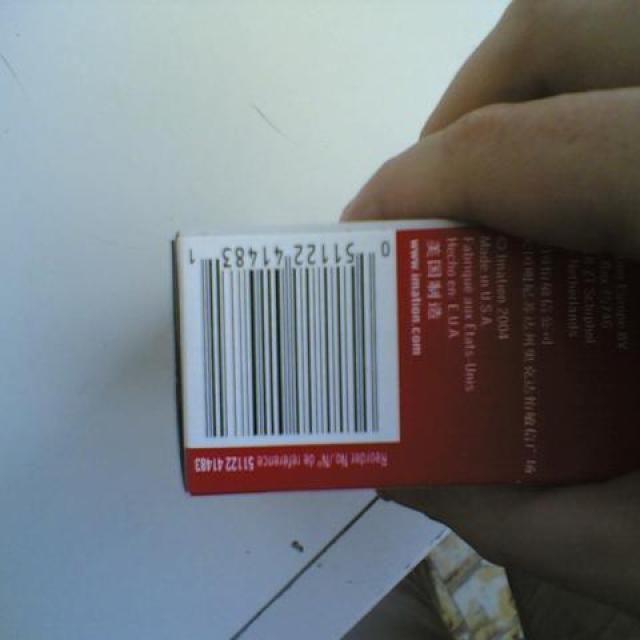Barcode: (171, 223, 400, 442)
